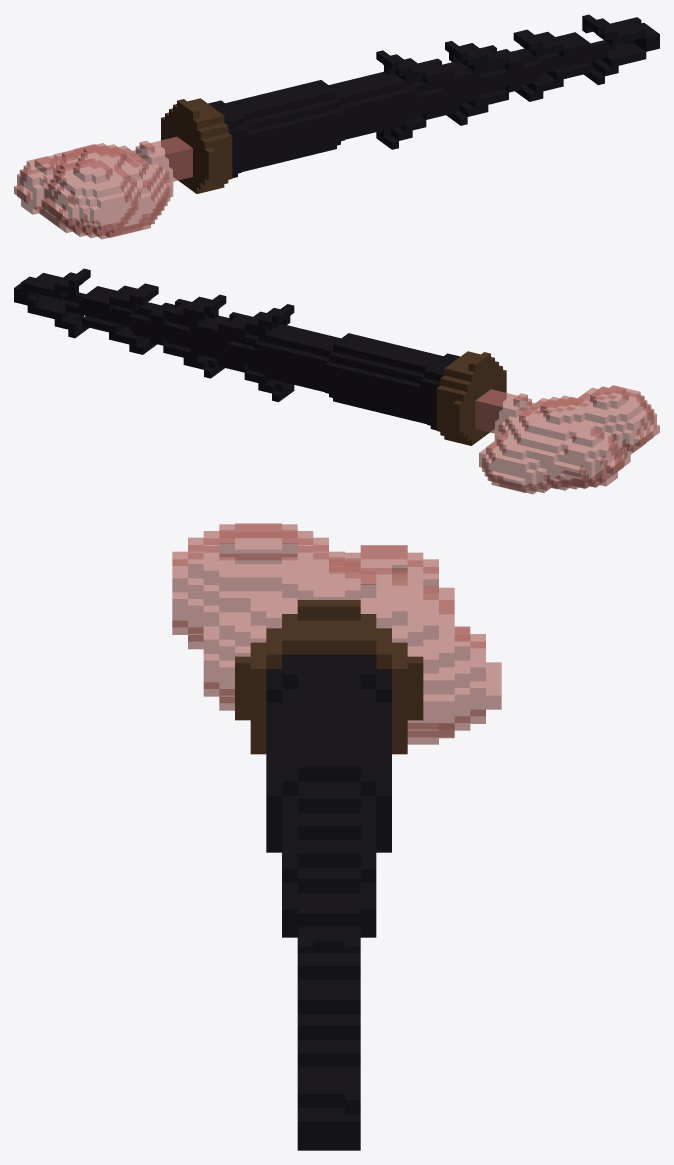
File: bee_sting.glb
The picture shows the model from 3 angles, top to bottom: view 1: azimuth 30°, elevation 25°; view 2: azimuth 150°, elevation 25°; view 3: azimuth 270°, elevation 25°; orthographic projection. The views are drawn at different scales.
Visible parts, largest first — view 1: bee_sting:compound; view 2: bee_sting:compound; view 3: bee_sting:compound.
Boxes of the visible parts, box(x1,y1,x2,y2) form: bee_sting:compound: box(14, 14, 659, 239); bee_sting:compound: box(14, 268, 659, 494); bee_sting:compound: box(172, 523, 501, 1150).
Bounding box in the file's own units: 0.18 × 0.028 × 0.042.
